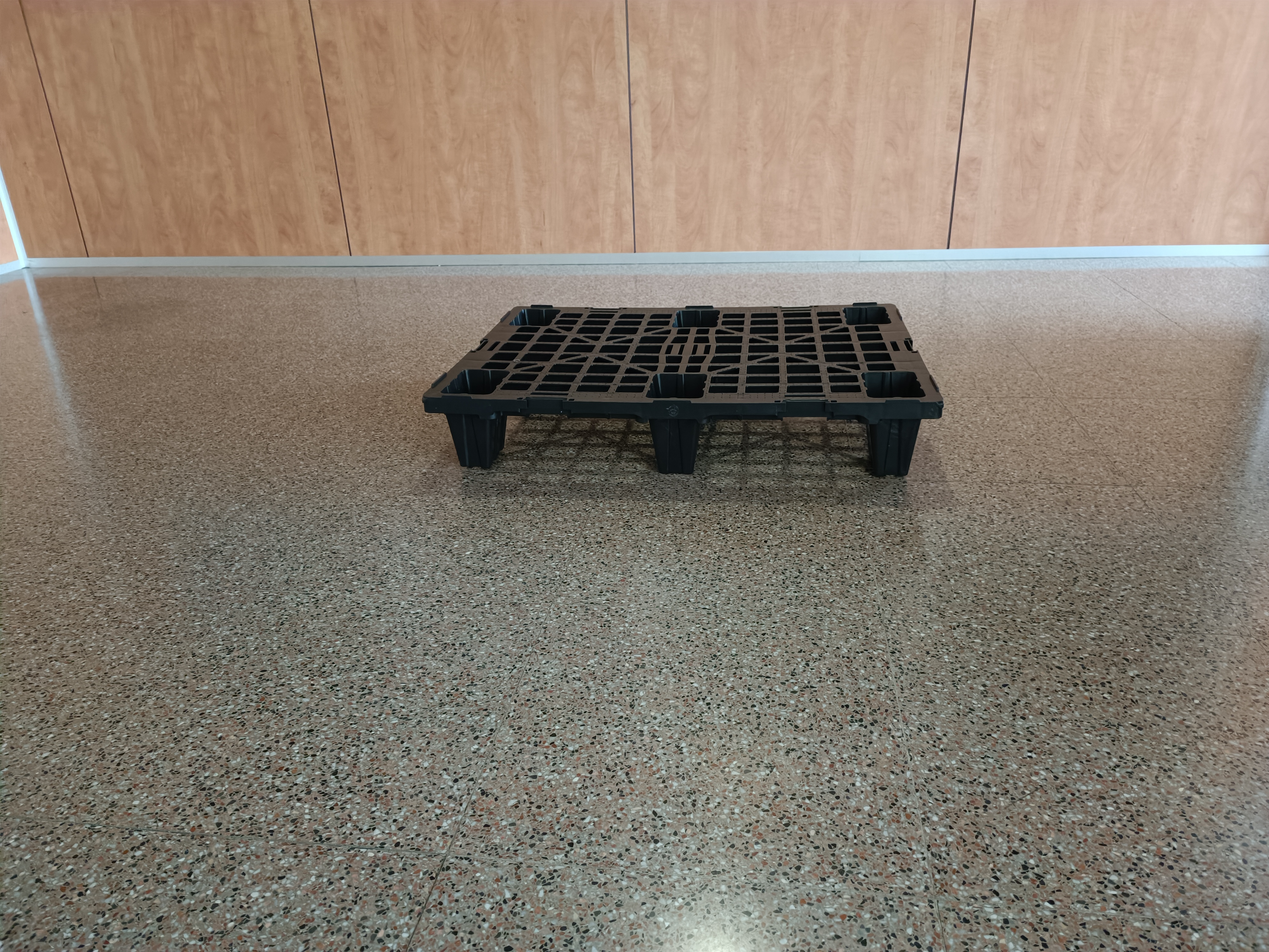block: (865, 417, 921, 483), (645, 417, 703, 478), (442, 414, 499, 462)
front: (430, 398, 952, 485)
hole pallet: (494, 411, 659, 463), (706, 417, 869, 468)
